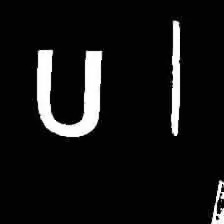LTR_U: (31, 38, 105, 141)
